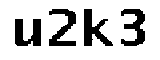2: (46, 6, 78, 49)
3: (118, 7, 147, 51)
k: (82, 6, 115, 51)
u: (10, 16, 44, 48)
